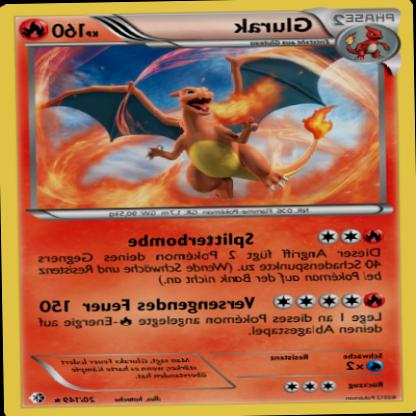Charizard: (38, 47, 335, 207)
